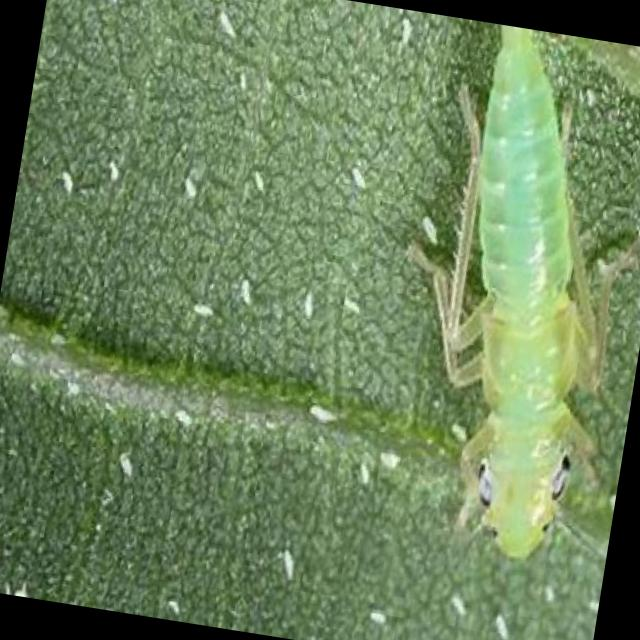green-leafhopper: (407, 24, 640, 565)
